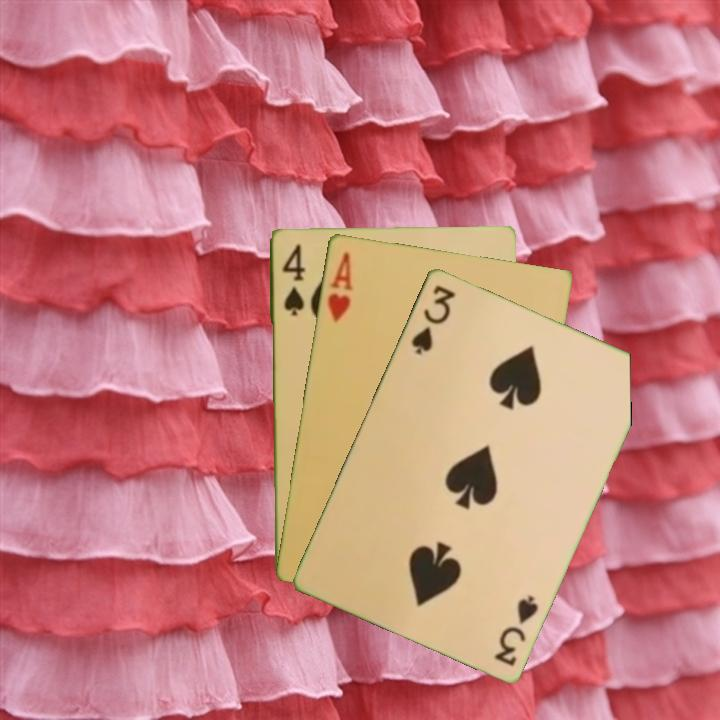3s: (490, 591, 541, 669), (407, 281, 458, 357)
4s: (278, 240, 307, 318)
Ah: (323, 248, 355, 324)
